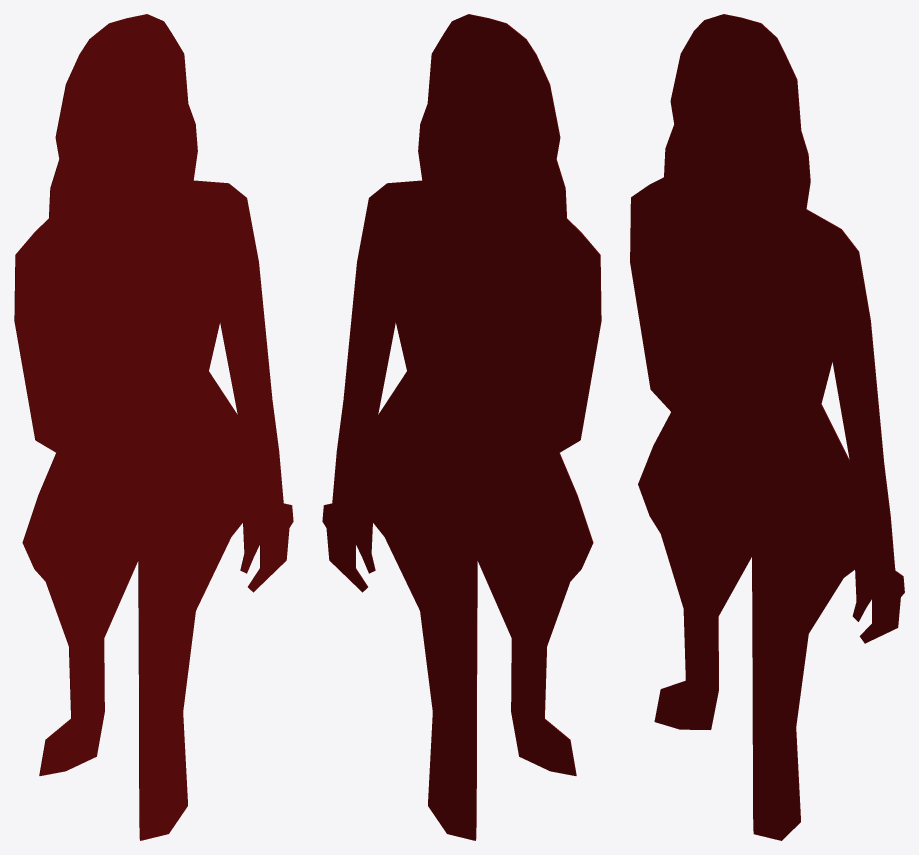
The model's file is Woman_sitting.fbx.
The picture shows the model from 3 angles, left to right: view 1: azimuth 30°, elevation 25°; view 2: azimuth 150°, elevation 25°; view 3: azimuth 330°, elevation 25°; orthographic projection.
Visible parts, largest first — view 1: woman_sitting1; view 2: woman_sitting1; view 3: woman_sitting1.
Part boxes in pixels (<box>): woman_sitting1: <box>14,14,293,840</box>; woman_sitting1: <box>322,14,601,840</box>; woman_sitting1: <box>630,14,904,840</box>.
Size of the model in its own units: 15.86 by 44.93 by 0.0595.
